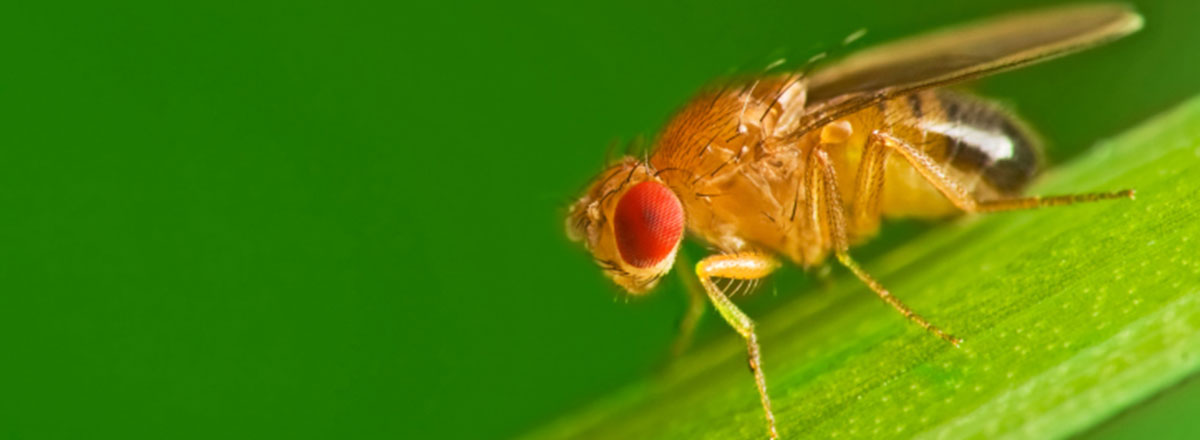phorid fly: (497, 10, 1181, 440)
